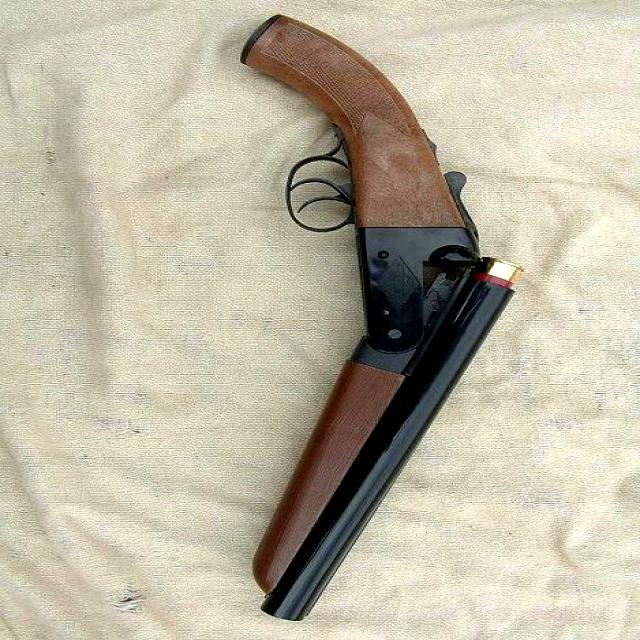shotgun: (197, 9, 529, 634)
